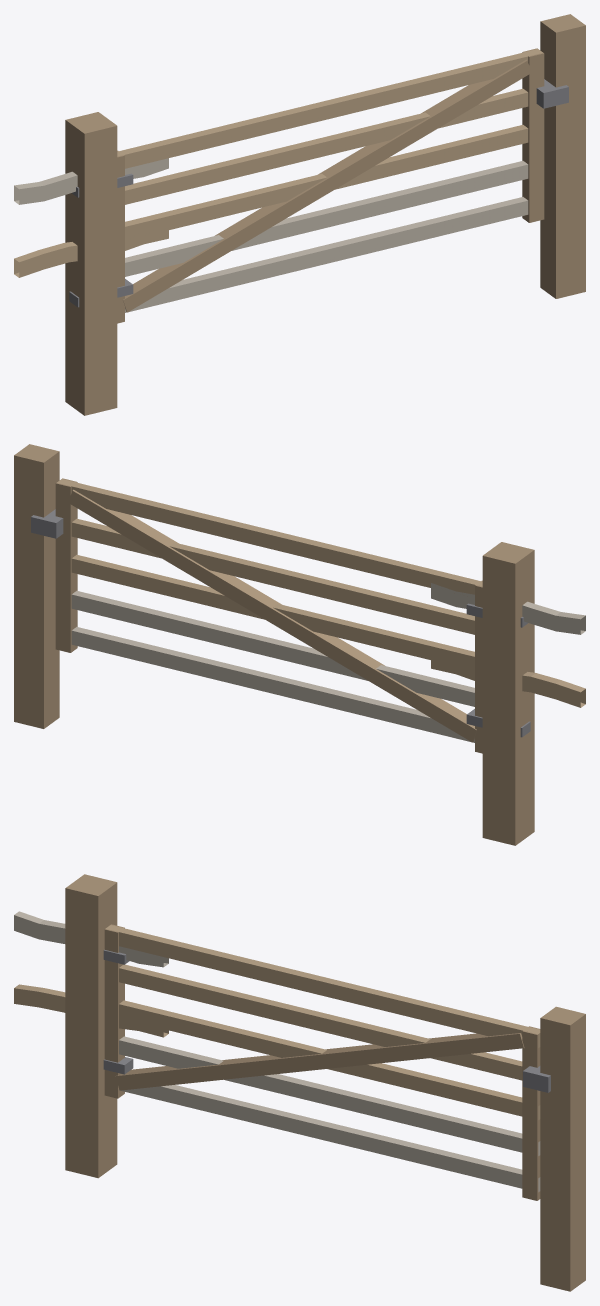
File: farm_fence.glb
3 views of the same model, one above another, from view 1: azimuth 30°, elevation 25°; view 2: azimuth 150°, elevation 25°; view 3: azimuth 330°, elevation 25° (orthographic).
Visible parts, largest first — view 1: ff_gate_mesh, ff_rails_mesh; view 2: ff_gate_mesh, ff_rails_mesh; view 3: ff_gate_mesh, ff_rails_mesh.
Boxes of the visible parts, x1=… form: ff_gate_mesh: x1=65, y1=14, x2=585, y2=415; ff_rails_mesh: x1=14, y1=158, x2=168, y2=277; ff_gate_mesh: x1=14, y1=444, x2=534, y2=845; ff_rails_mesh: x1=431, y1=583, x2=585, y2=707; ff_gate_mesh: x1=65, y1=874, x2=585, y2=1291; ff_rails_mesh: x1=14, y1=911, x2=168, y2=1037.
Size of the model in its own units: 3.75 by 1.8 by 0.2401.
